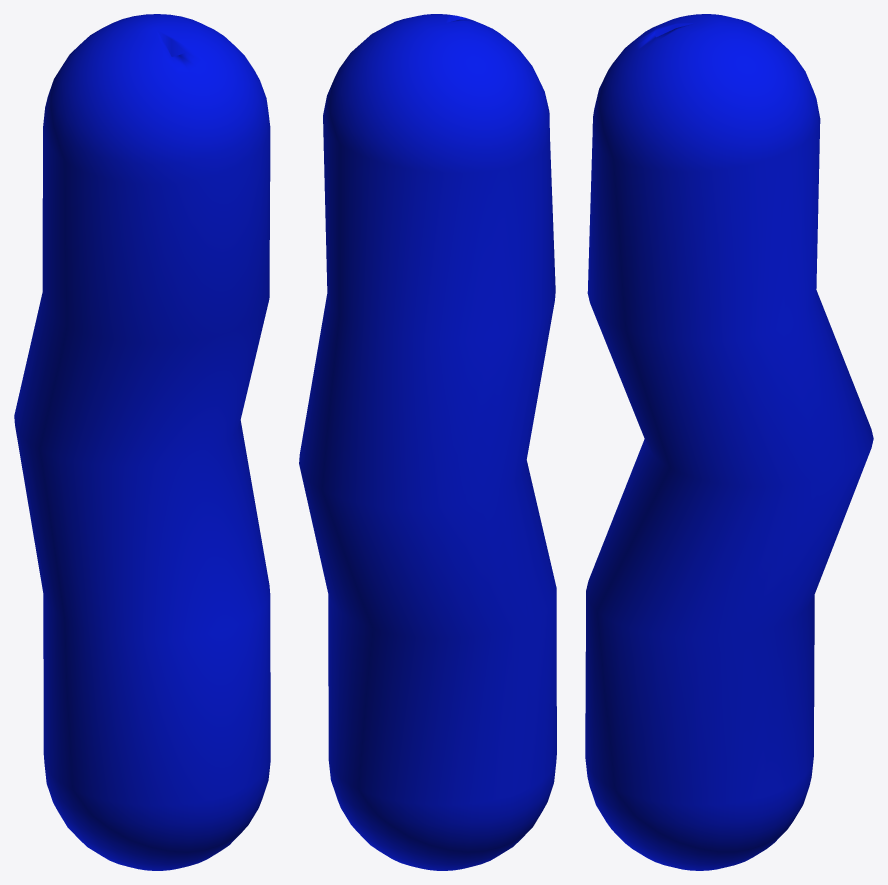
The picture shows the model from 3 angles, left to right: view 1: azimuth 30°, elevation 25°; view 2: azimuth 150°, elevation 25°; view 3: azimuth 270°, elevation 25°; orthographic projection.
Parts seen in each view (by area): view 1: Sphere; view 2: Sphere; view 3: Sphere.
Part boxes in pixels (x1,y1,x2,y2): Sphere: [14, 14, 270, 870]; Sphere: [299, 14, 556, 870]; Sphere: [585, 14, 873, 870].
Bounding box in the file's own units: 203 × 808 × 252.
